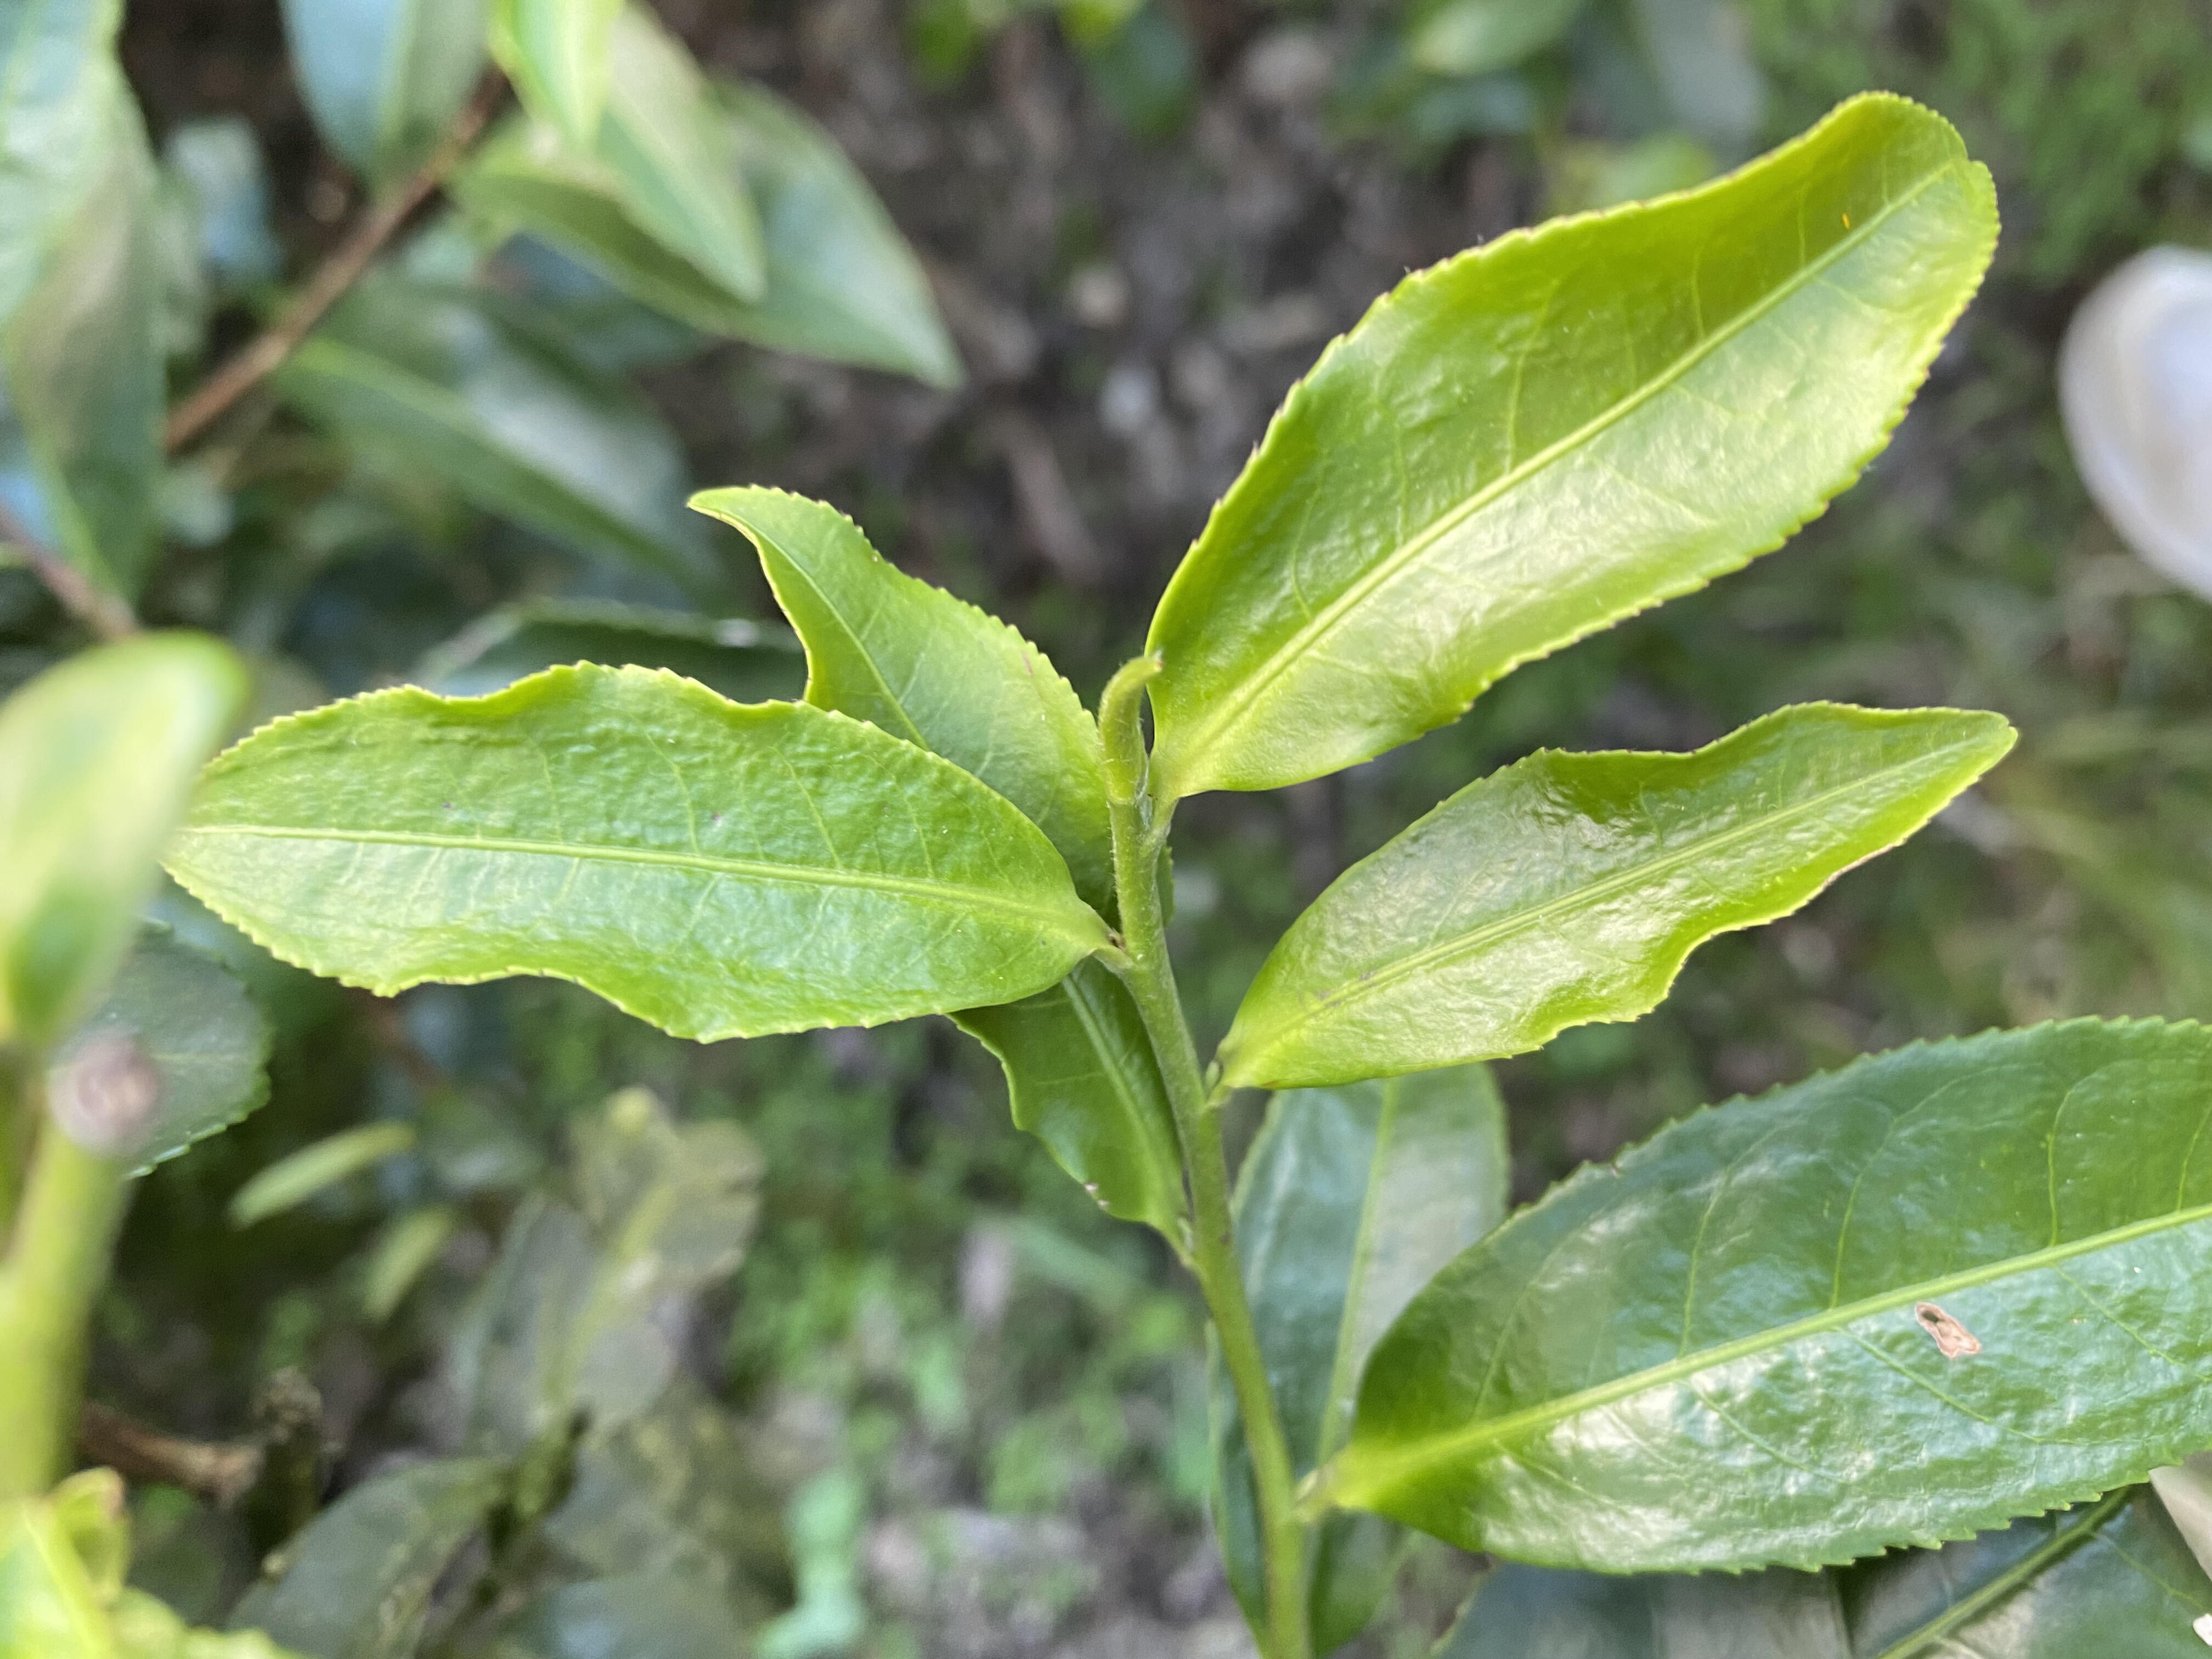healthy: (1144, 85, 2008, 807), (157, 653, 1089, 1044), (1214, 694, 2022, 1094)
tanju_low: (1343, 1009, 2212, 1582)
